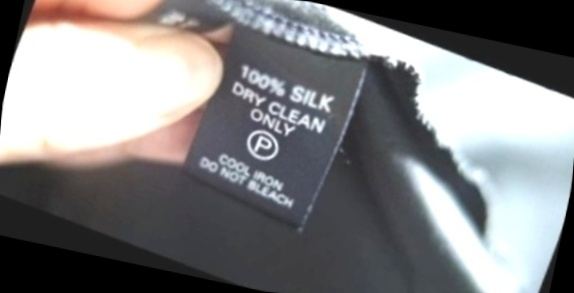dry_clean_any_solvent_except_trichloroethylene: (235, 116, 294, 173)
